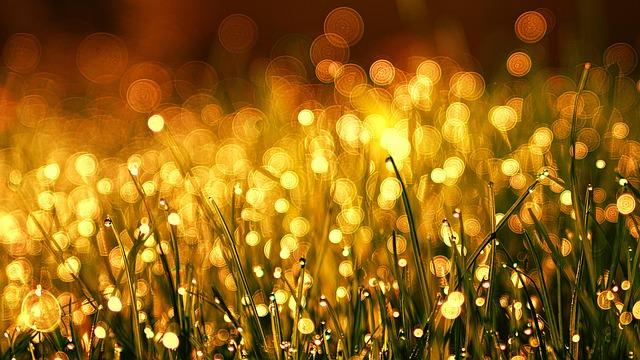Non_Gorille: (91, 23, 528, 344)
